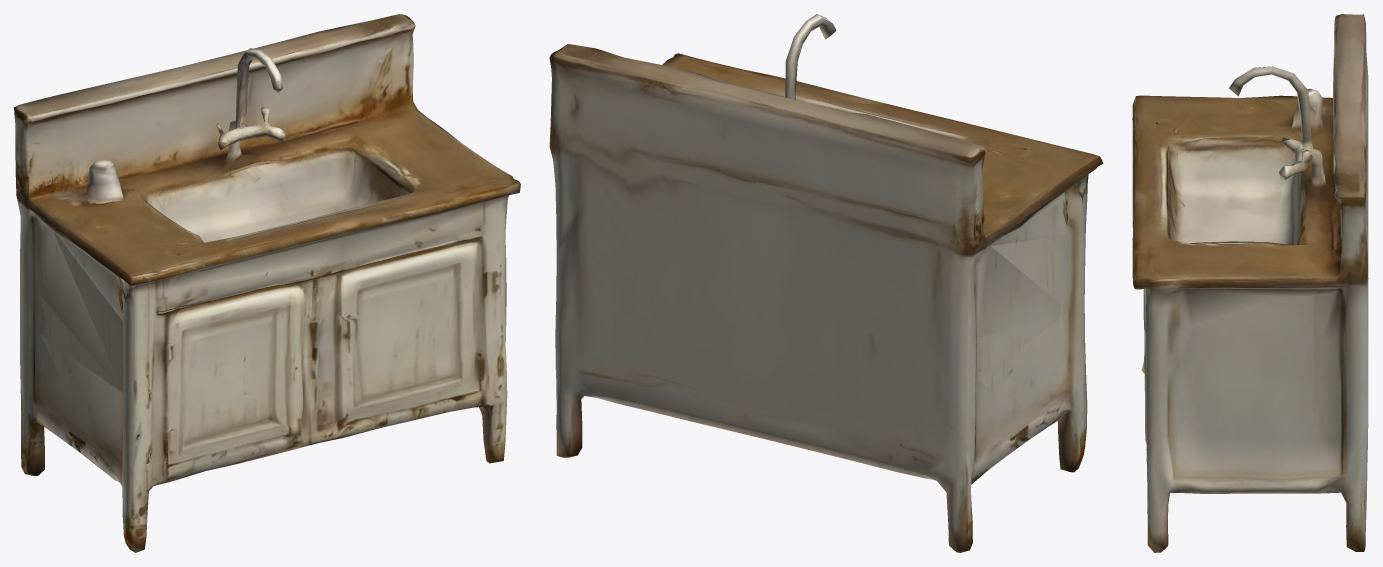
Rendered from sink_unit.glb.
3 renders of one model, left to right at view 1: azimuth 30°, elevation 25°; view 2: azimuth 150°, elevation 25°; view 3: azimuth 270°, elevation 25°, orthographic. The views are drawn at different scales.
Visible parts, largest first — view 1: sink_unit; view 2: sink_unit; view 3: sink_unit.
Part boxes in pixels (x1,y1,x2,y2): sink_unit: (14, 14, 520, 552); sink_unit: (549, 14, 1103, 552); sink_unit: (1132, 14, 1368, 552).
Bounding box in the file's own units: 1.2 × 1.2 × 0.6401.
Materials: 1 (1 with a texture image).
